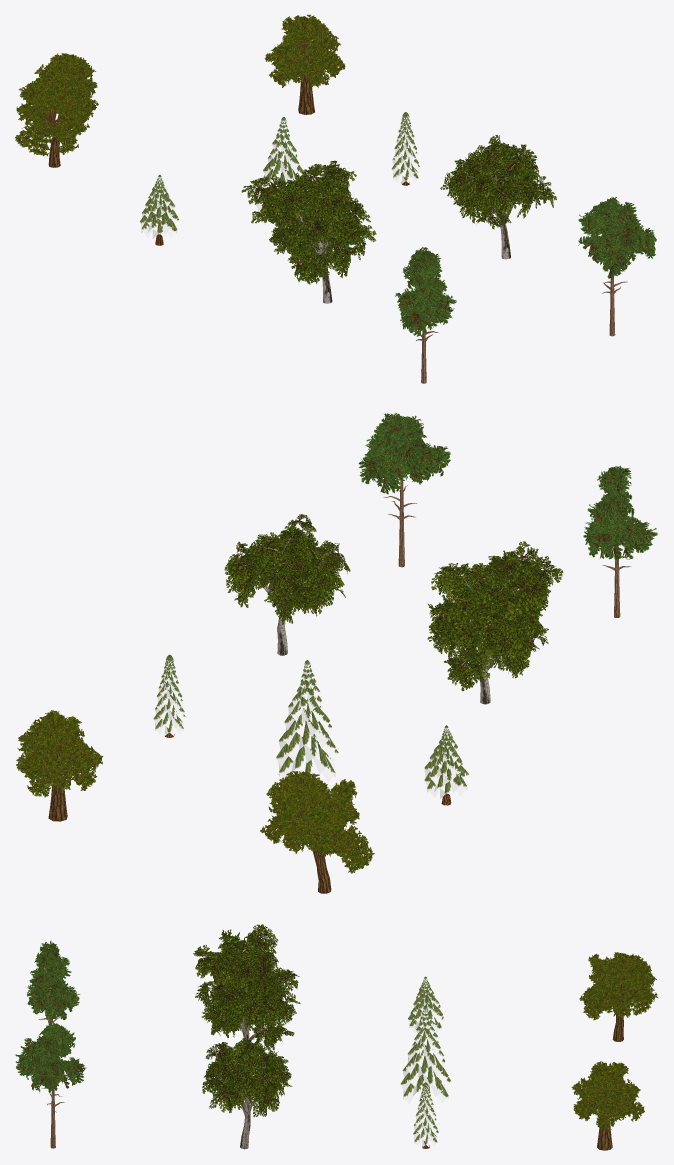
Rendered from low_poly_stylized_trees_pack_free.glb.
3 views of the same model, one above another, from view 1: azimuth 30°, elevation 25°; view 2: azimuth 150°, elevation 25°; view 3: azimuth 270°, elevation 25° (orthographic). The views are drawn at different scales.
Visible parts, largest first — view 1: Tree_07, Tree_06, Tree_05, Tree_04, Tree_08, Tree_09, Tree_02, Tree_03, Tree_01; view 2: Tree_07, Tree_06, Tree_05, Tree_04, Tree_08, Tree_09, Tree_02, Tree_03, Tree_01; view 3: Tree_07, Tree_06, Tree_05, Tree_04, Tree_08, Tree_09, Tree_02, Tree_01, Tree_03.
Part boxes in pixels (<box>): Tree_07: <box>241,160,376,303</box>; Tree_06: <box>440,135,556,259</box>; Tree_05: <box>15,53,98,167</box>; Tree_04: <box>264,14,345,114</box>; Tree_08: <box>578,197,656,336</box>; Tree_09: <box>395,247,456,383</box>; Tree_02: <box>256,117,303,227</box>; Tree_03: <box>139,175,179,245</box>; Tree_01: <box>391,112,419,185</box>; Tree_07: <box>427,541,563,704</box>; Tree_06: <box>224,514,350,655</box>; Tree_05: <box>260,771,374,893</box>; Tree_04: <box>16,710,102,821</box>; Tree_08: <box>358,413,450,567</box>; Tree_09: <box>583,465,657,617</box>; Tree_02: <box>276,660,338,782</box>; Tree_03: <box>424,725,469,805</box>; Tree_01: <box>153,654,185,737</box>; Tree_07: <box>193,924,300,1051</box>; Tree_06: <box>202,1037,292,1149</box>; Tree_05: <box>579,952,658,1041</box>; Tree_04: <box>571,1061,644,1150</box>; Tree_08: <box>15,1021,86,1148</box>; Tree_09: <box>27,941,80,1024</box>; Tree_02: <box>400,1006,450,1103</box>; Tree_01: <box>413,1082,438,1148</box>; Tree_03: <box>408,976,443,1033</box>.
Bounding box in the file's own units: 12.47 × 5.16 × 23.83.
Materials: 4 (4 with a texture image).
